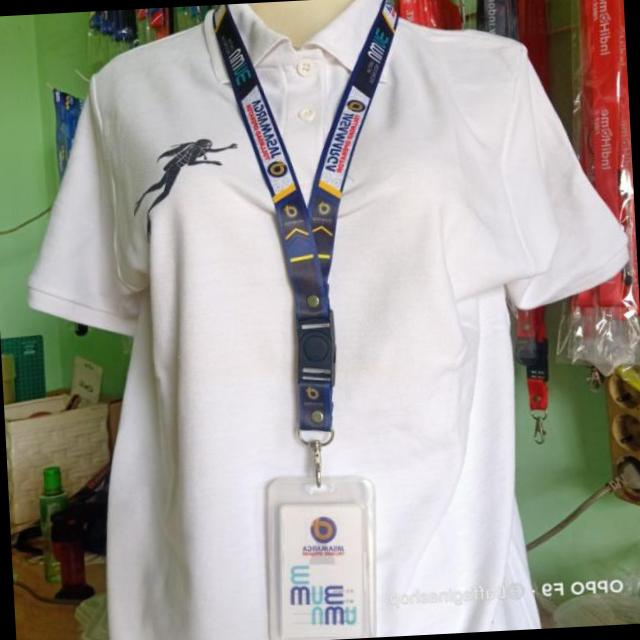id_card: (204, 0, 439, 640)
